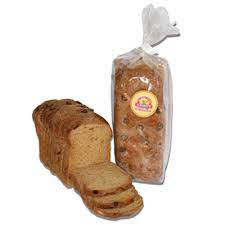bread: (107, 2, 179, 187), (24, 94, 109, 181), (70, 157, 146, 217)
